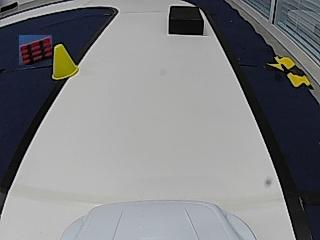block: (168, 6, 203, 35)
cone: (52, 45, 78, 79)
